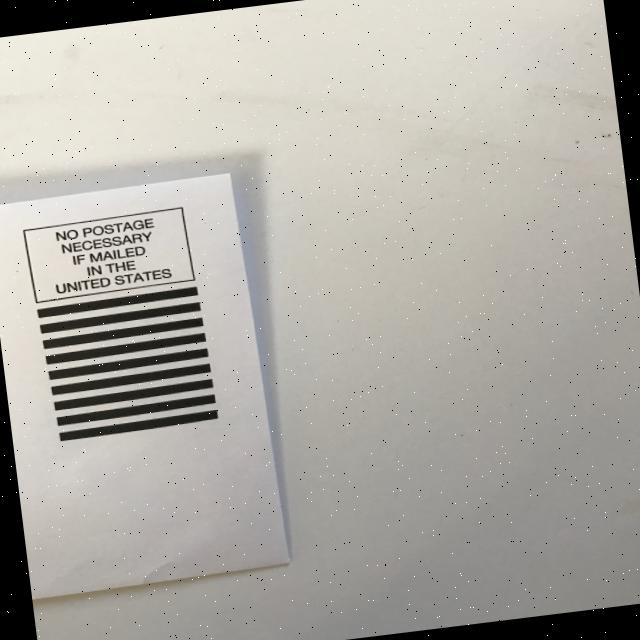paper: (0, 0, 640, 640), (0, 170, 291, 599)
